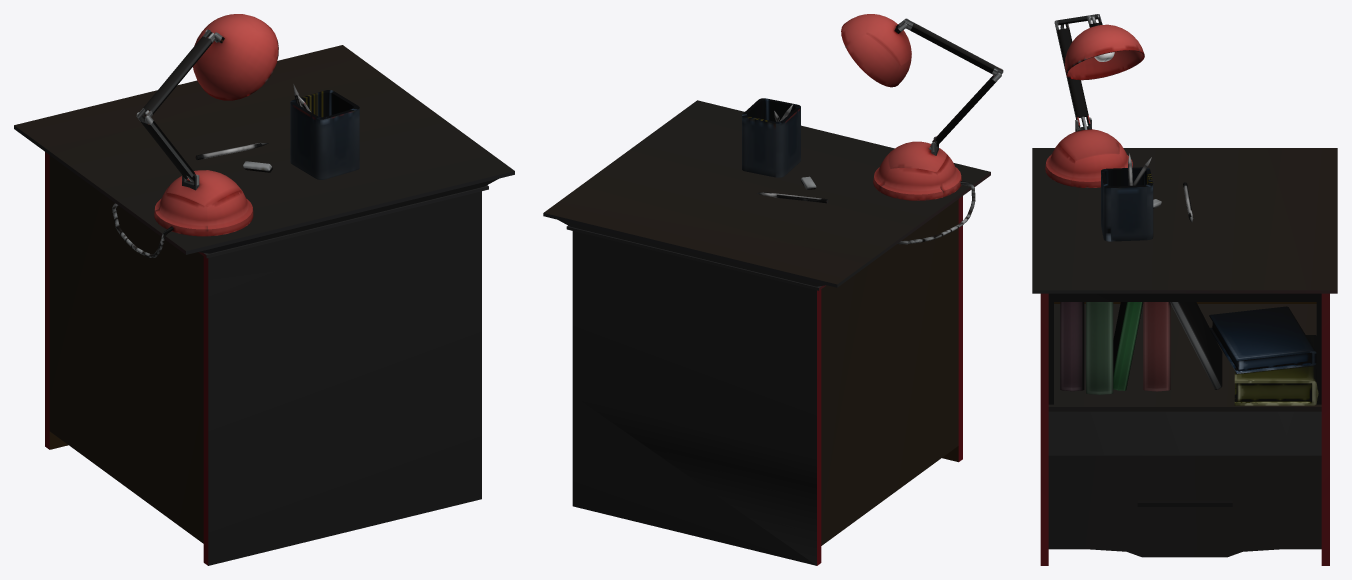
Rendered from RE_RBedNightStand.FBX.
3 renders of one model, left to right at view 1: azimuth 30°, elevation 25°; view 2: azimuth 150°, elevation 25°; view 3: azimuth 270°, elevation 25°, orthographic. The views are drawn at different scales.
Visible parts, largest first — view 1: RE_RBedNightStand; view 2: RE_RBedNightStand; view 3: RE_RBedNightStand.
Boxes of the visible parts, x1,y1,x2,y2 form: RE_RBedNightStand: (14,14,514,565); RE_RBedNightStand: (543,14,1003,565); RE_RBedNightStand: (1032,14,1337,565).
Size of the model in its own units: 42.87 by 57.54 by 35.58.
6 materials, 6 textured.
